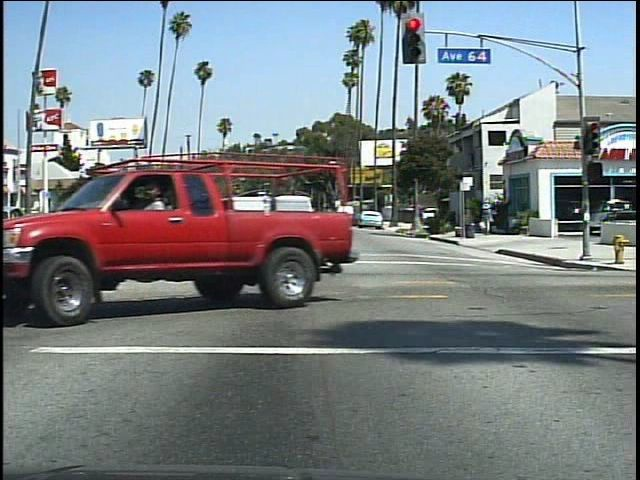person: (144, 175, 186, 306), (478, 199, 501, 237)
